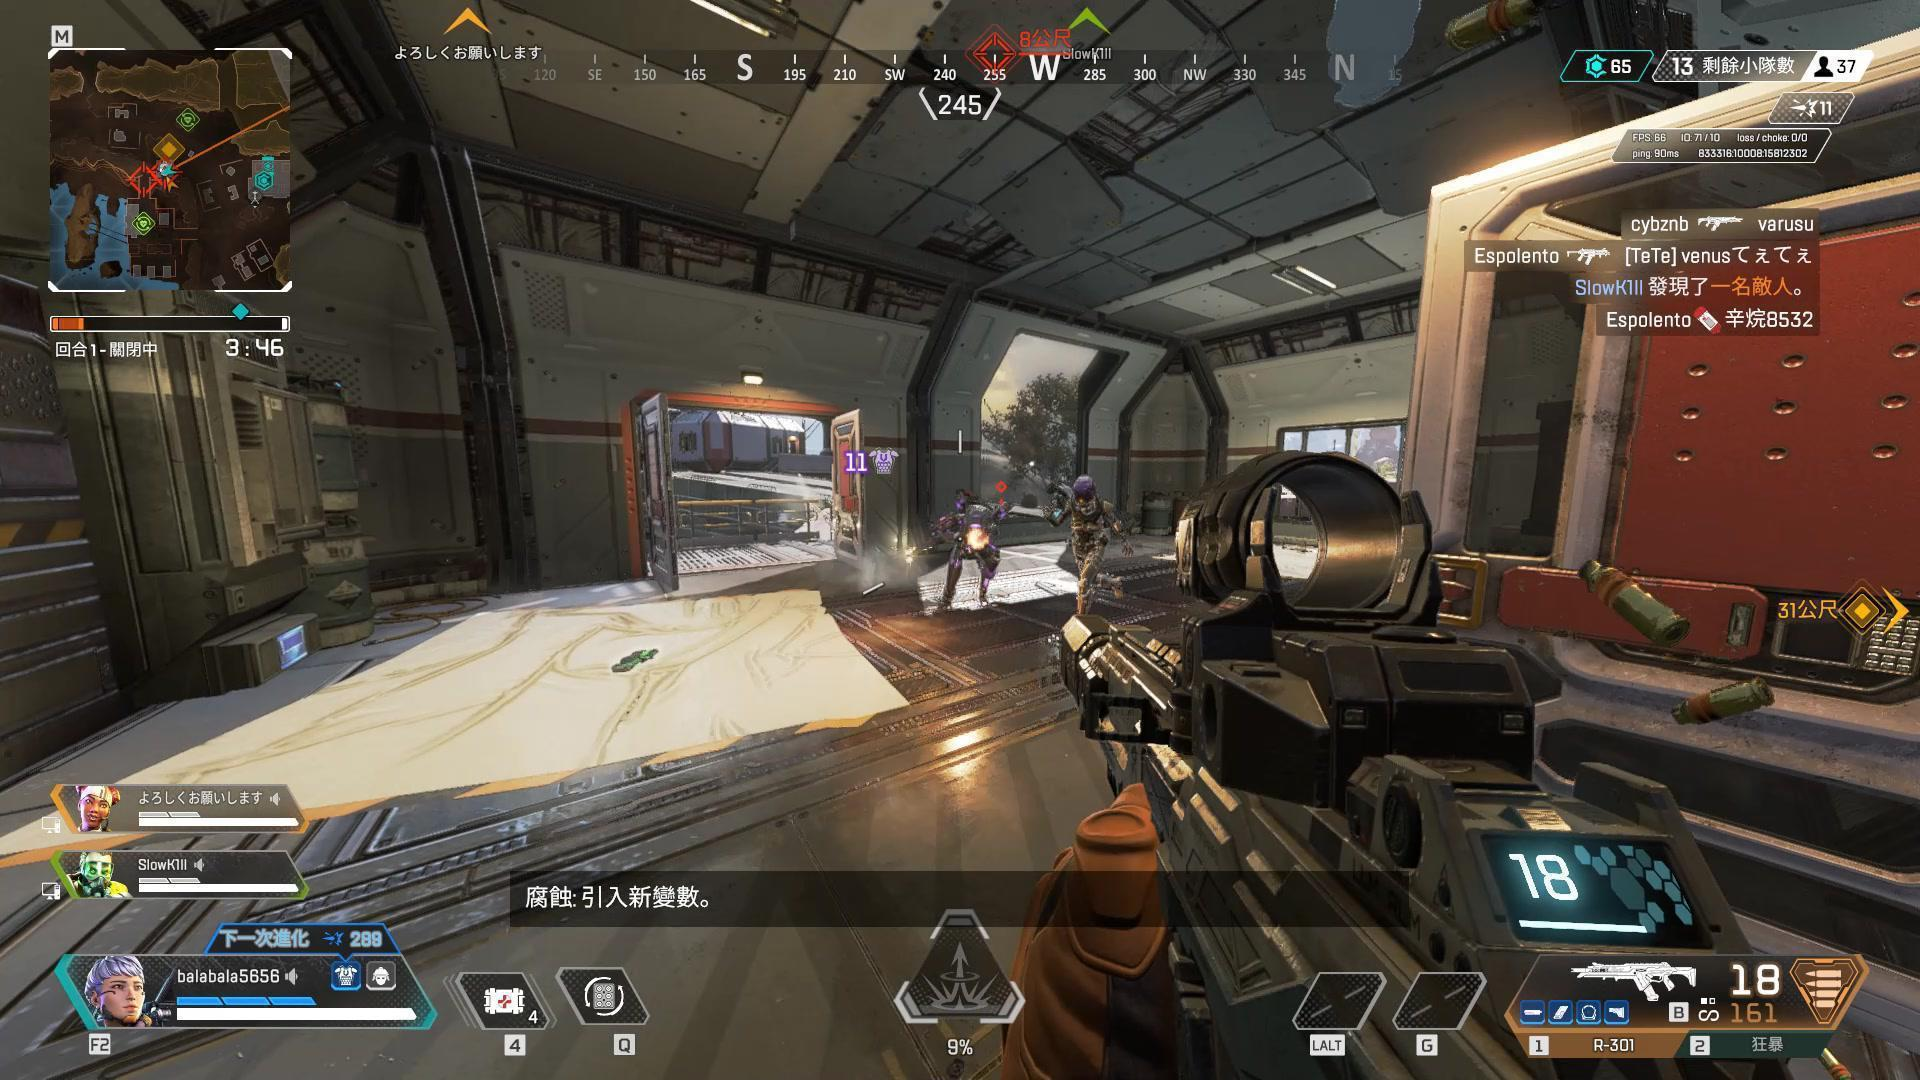avatar: (1043, 472, 1125, 616), (937, 489, 1003, 613)
object: (964, 525, 991, 553)
